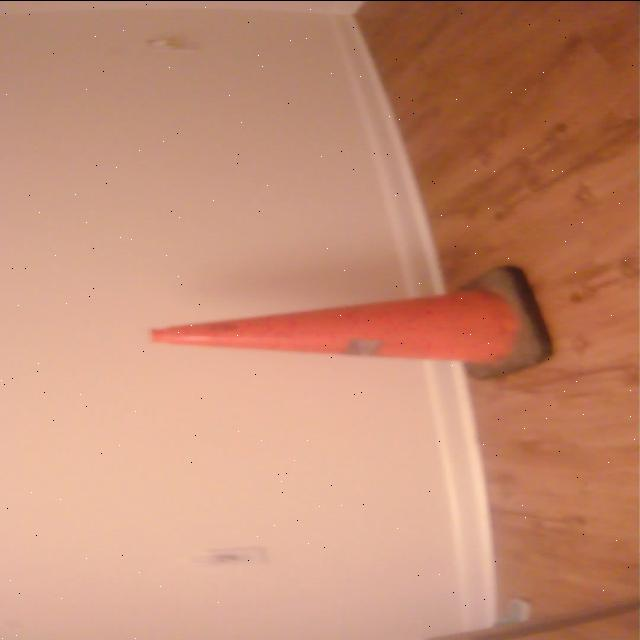traffic cone: (142, 261, 557, 387)
